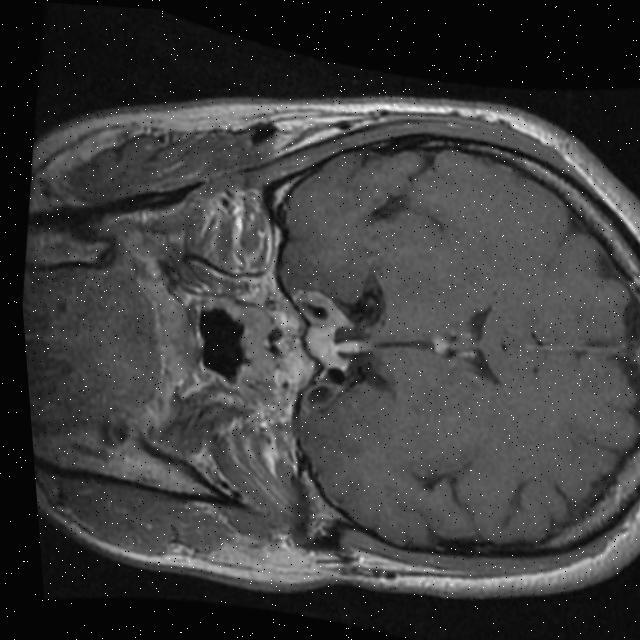Pituitary: (301, 314, 361, 373)
